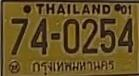0: (63, 18, 79, 53)
2: (82, 18, 98, 53)
4: (30, 17, 47, 54), (118, 17, 132, 52)
5: (99, 18, 115, 52)
7: (11, 17, 27, 54)
BKK: (30, 59, 115, 73)
